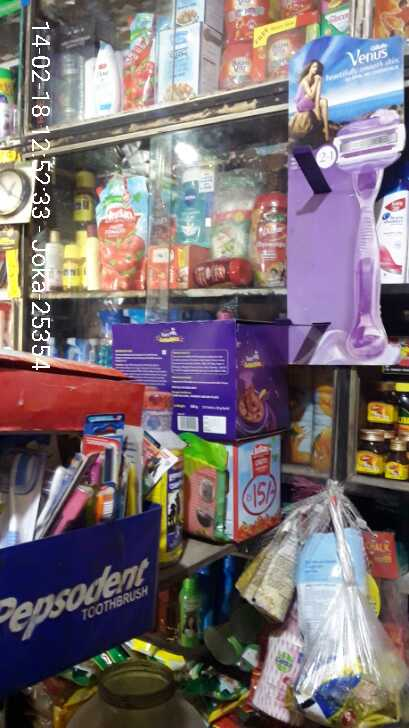reject: (217, 193, 349, 461)
